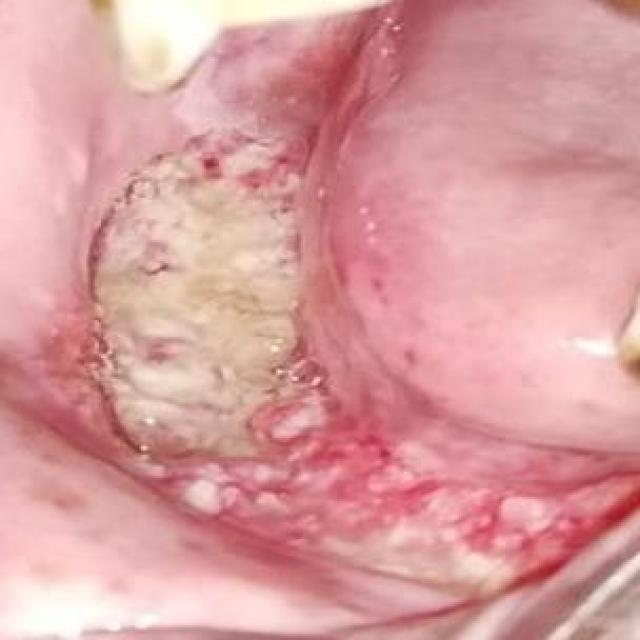processing_area: (2, 0, 640, 624)
